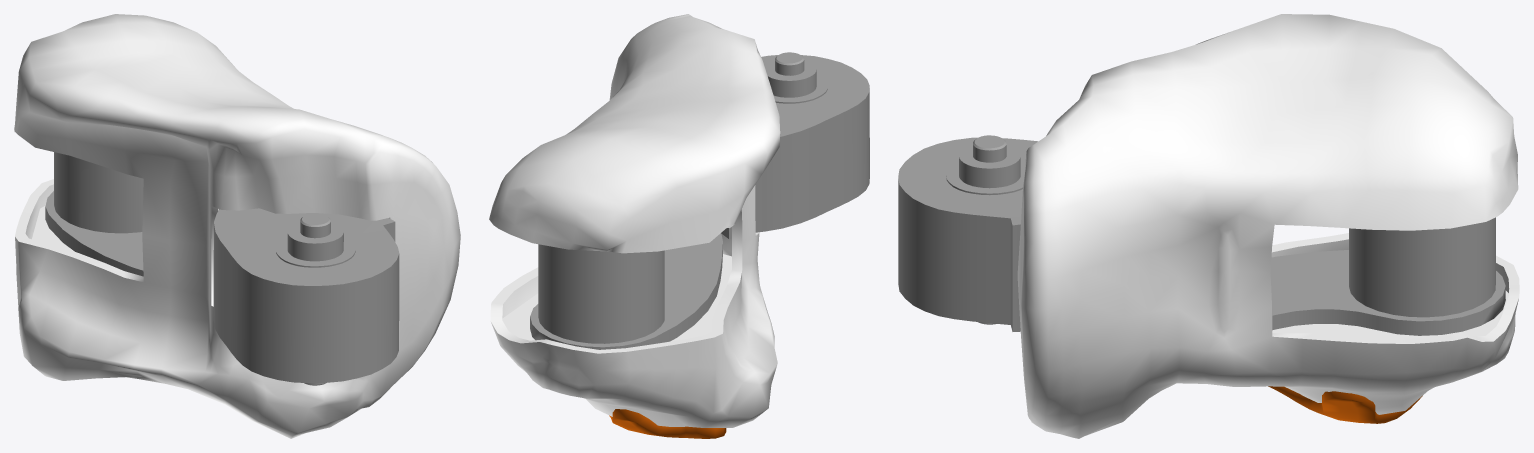
File: RKneePitch.obj
3 views of the same model, side by side, from view 1: azimuth 30°, elevation 25°; view 2: azimuth 150°, elevation 25°; view 3: azimuth 270°, elevation 25° (orthographic). The views are drawn at different scales.
Parts seen in each view (by area): view 1: RKneePitch_Mesh.023; view 2: RKneePitch_Mesh.023; view 3: RKneePitch_Mesh.023.
Boxes of the visible parts, bbox=[...] form: RKneePitch_Mesh.023: bbox=[14, 14, 460, 438]; RKneePitch_Mesh.023: bbox=[489, 14, 869, 438]; RKneePitch_Mesh.023: bbox=[898, 14, 1519, 438].
Bounding box in the file's own units: 89.68 × 93.29 × 148.
